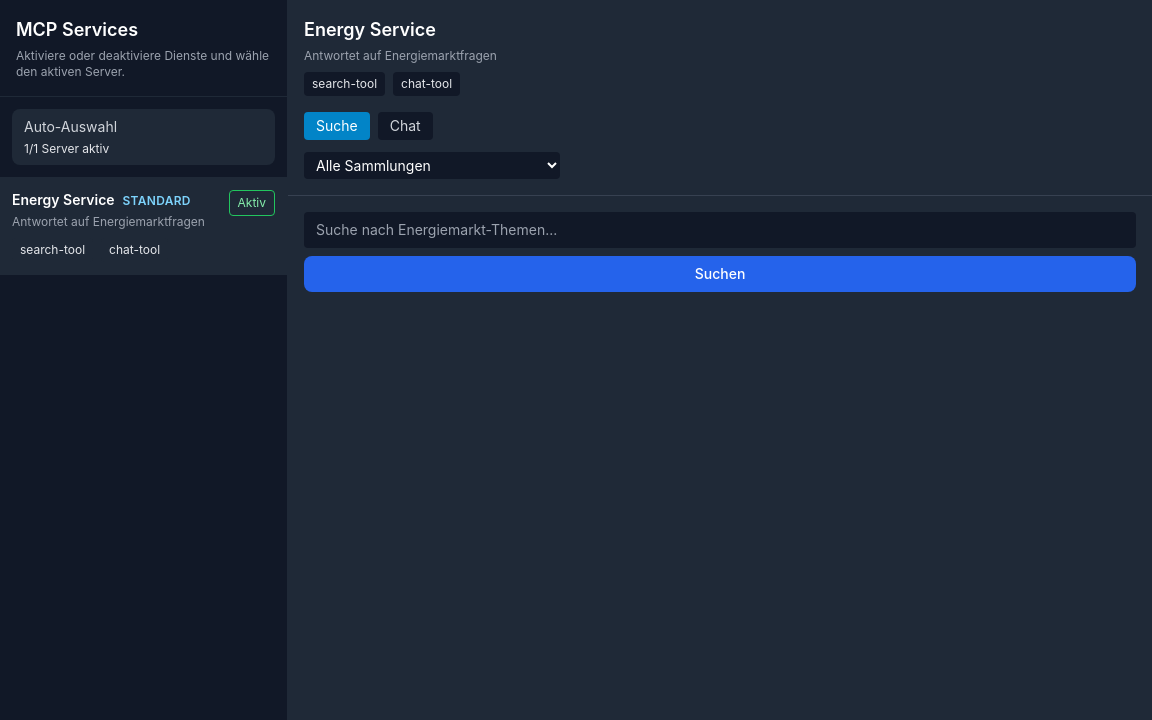
Test: MCPPanel › shows server options and search results with metadata
The width and height of the screenshot is (1152, 720).
Expected: the text "Energy Service" is shown, top-left (12, 191), bottom-right (115, 208)
Step 1. Type "EDIFACT" into the field with placeholder "Suche nach Energiemarkt-Themen..." → [720, 230], box top-left (304, 212), bottom-right (1136, 248)
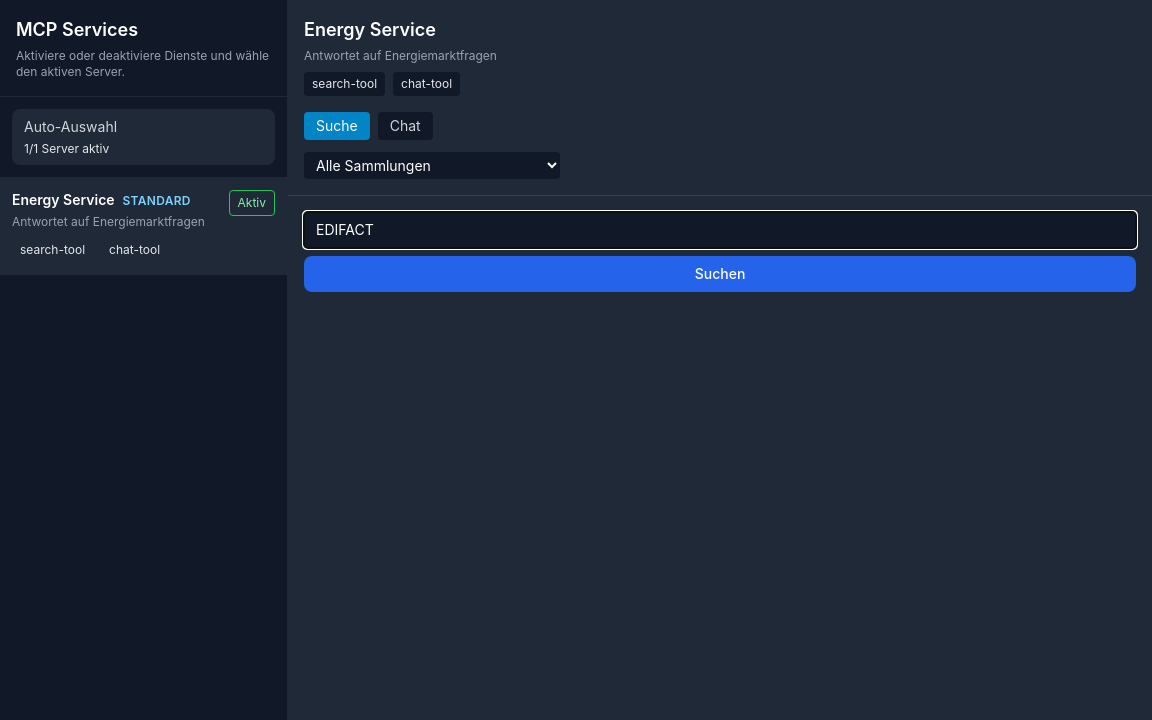
Step 2. Click the button "Suchen" → [720, 274], box top-left (304, 256), bottom-right (1136, 292)
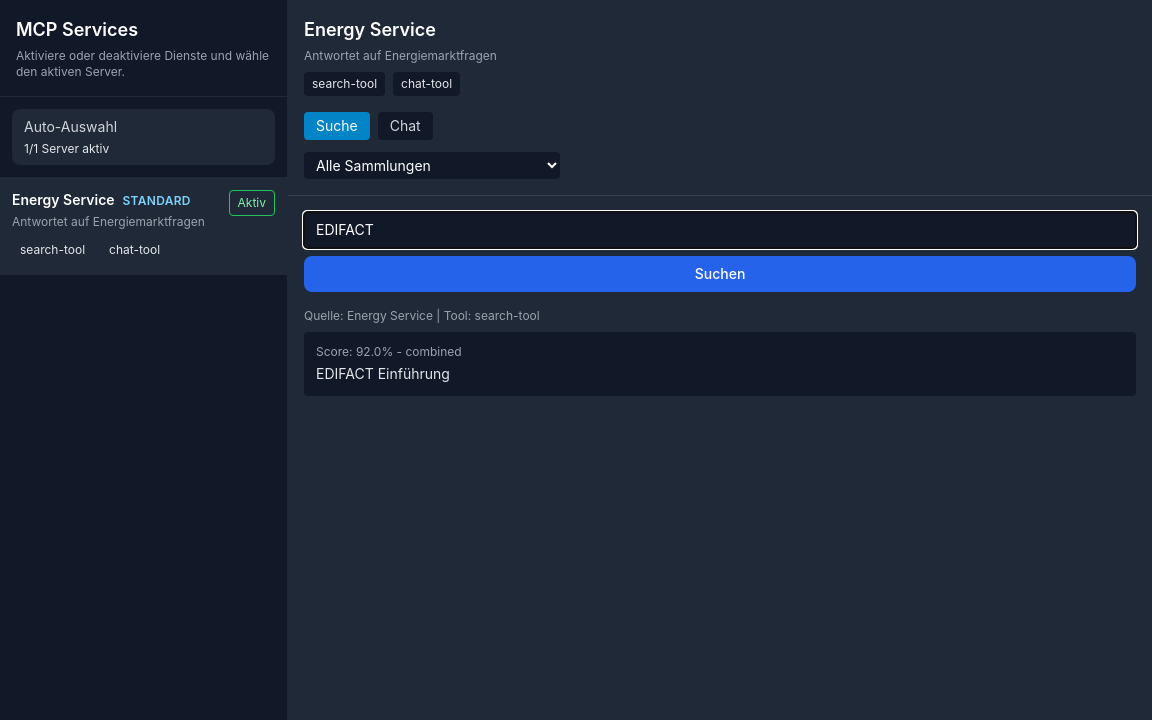
Now the text "EDIFACT Einführung" is shown, box top-left (316, 365), bottom-right (450, 382)
